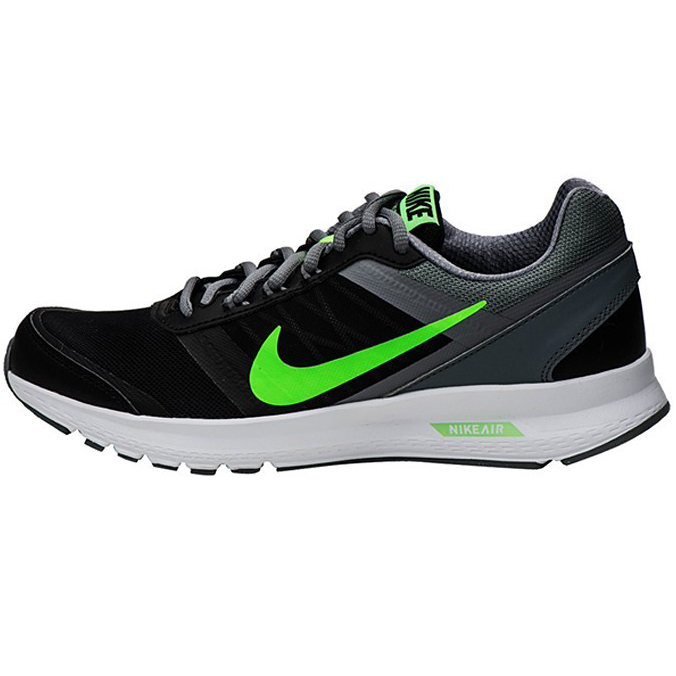Nike: (246, 297, 493, 409)
